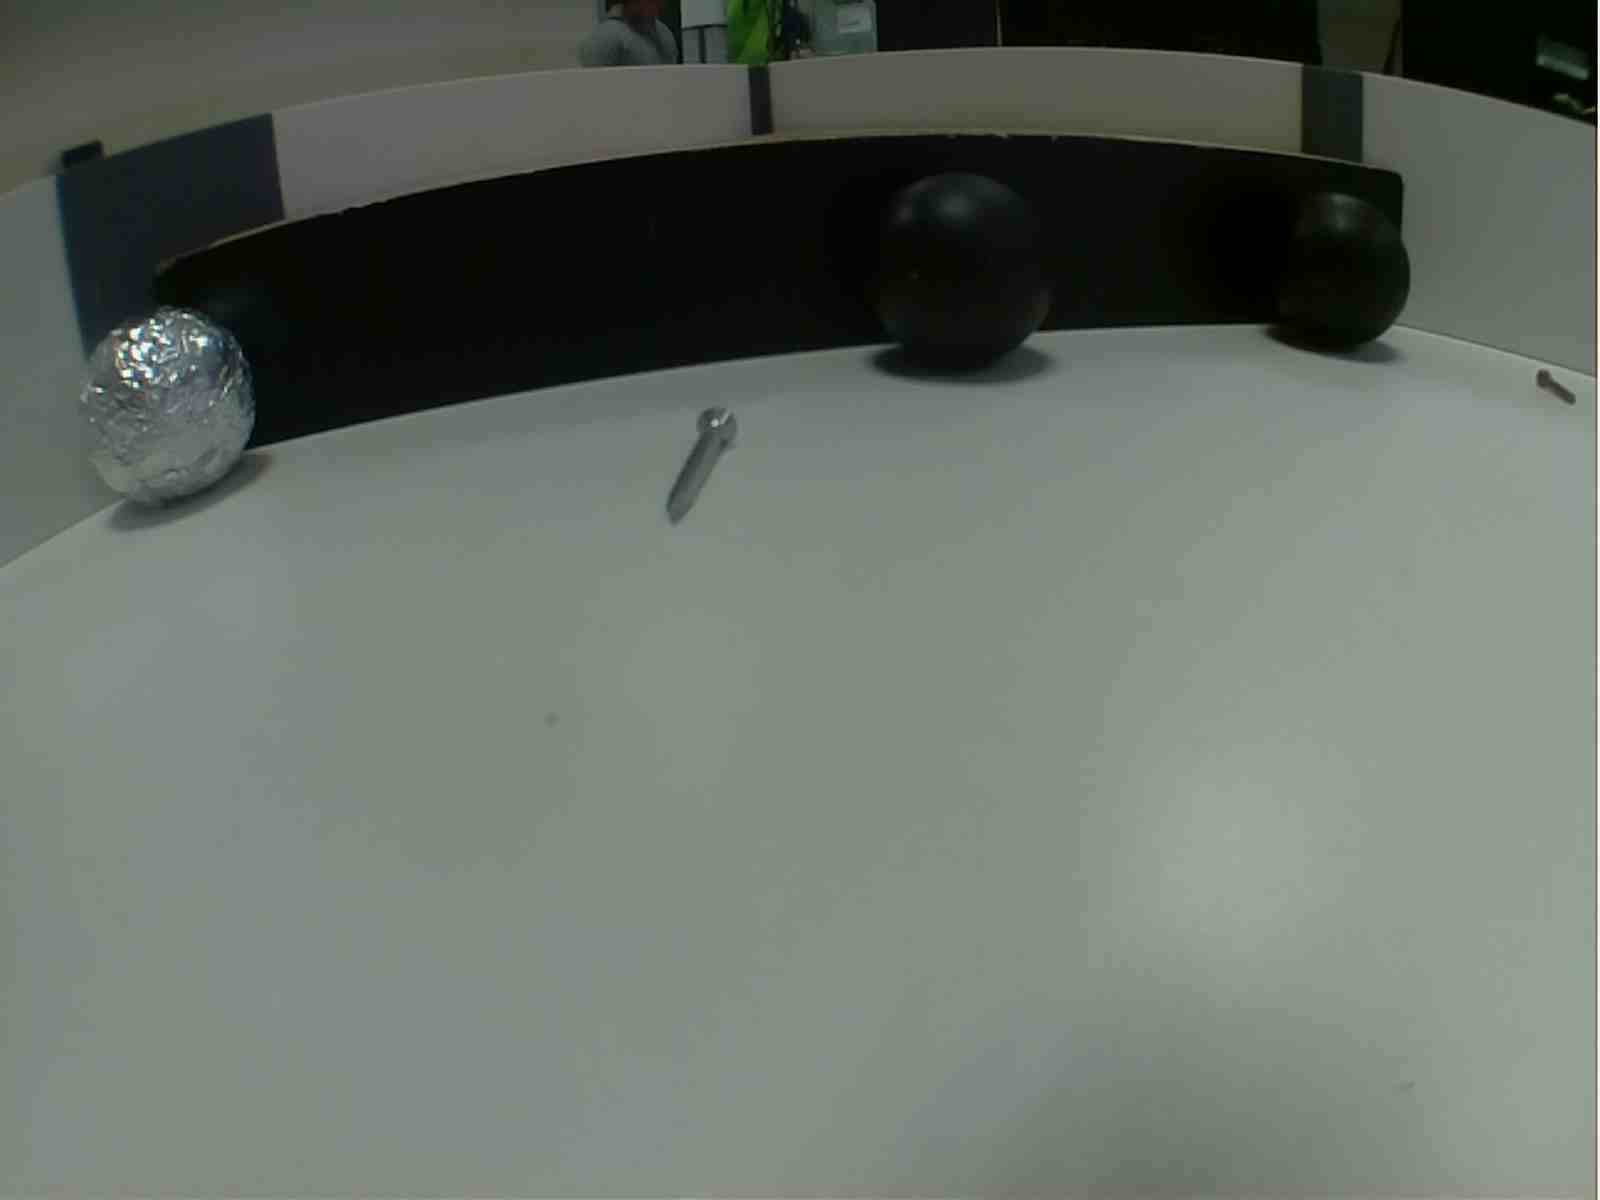bianca: (63, 308, 249, 516)
nera: (871, 176, 1056, 362), (1261, 187, 1416, 350)
